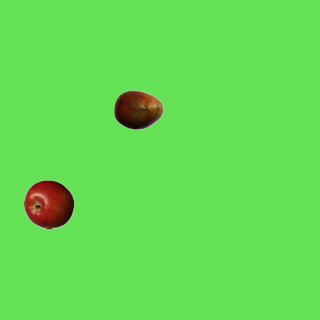Apple Braeburn: (23, 179, 73, 229)
Mango Red: (113, 84, 163, 134)
